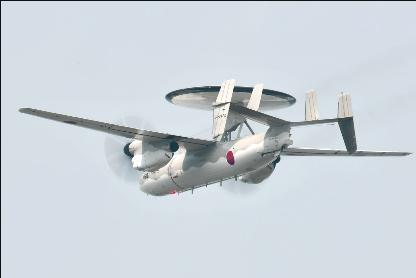C5: (17, 78, 413, 198)
